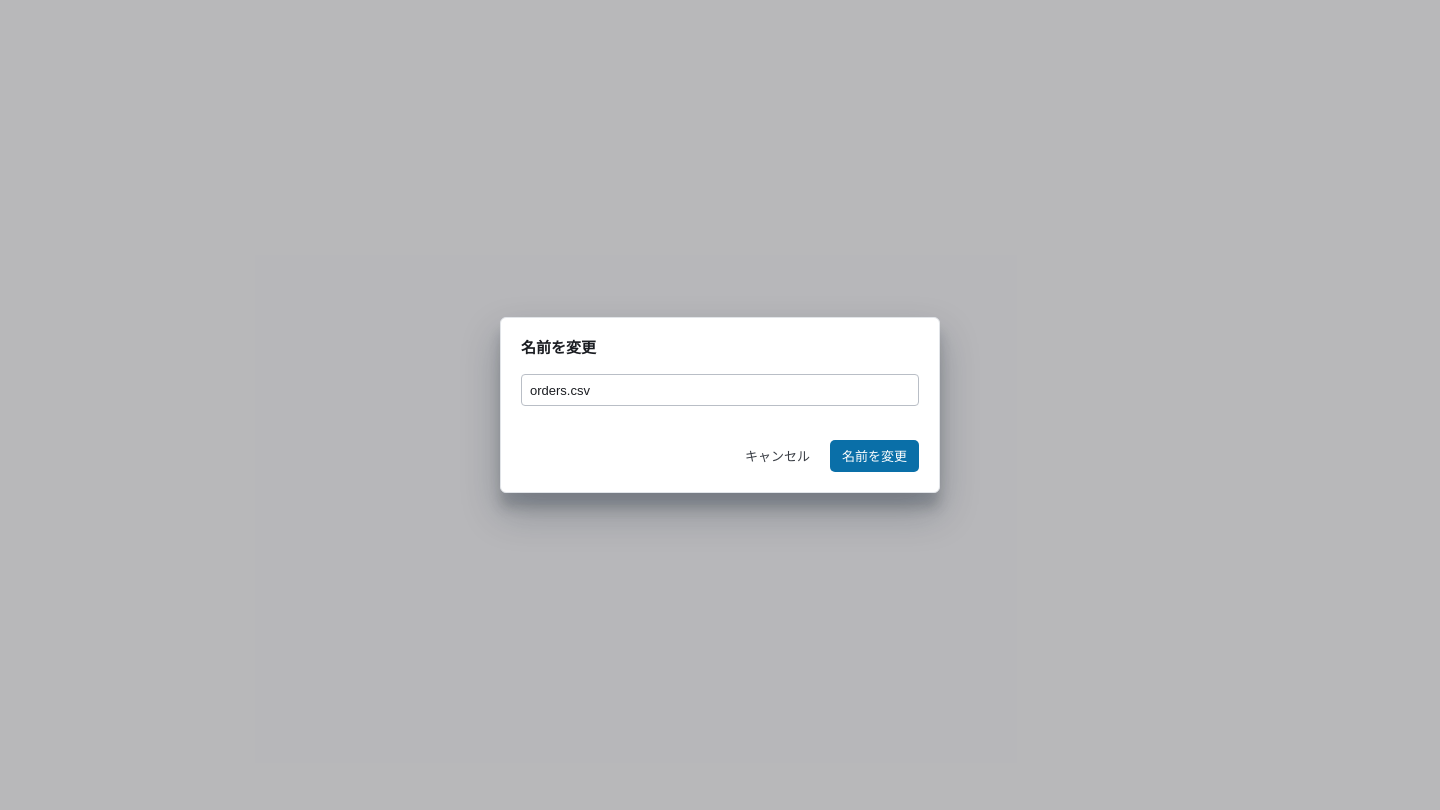
Scenario: AskDialog › asks for a name, checks it as it is typed, and sends it with Enter
Later steps or results of the test are not shown.
Step 1. Replace the text in the field with "a/b.csv" → (720, 390), box x1=521 y1=374 x2=919 y2=406
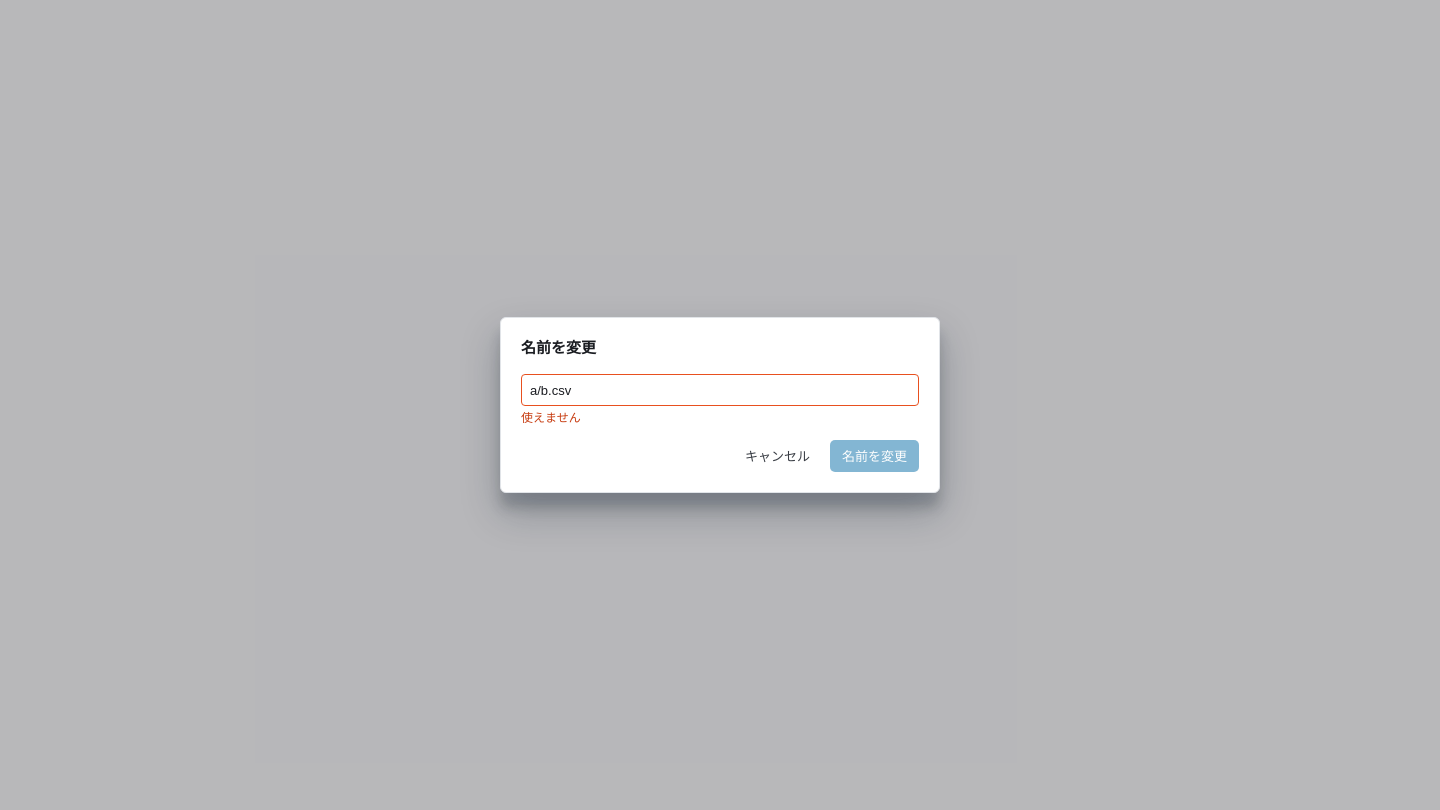
Result: the text "使えません" is shown at x1=521 y1=411 x2=581 y2=425
Result: the button "名前を変更" is disabled at x1=830 y1=440 x2=919 y2=472
